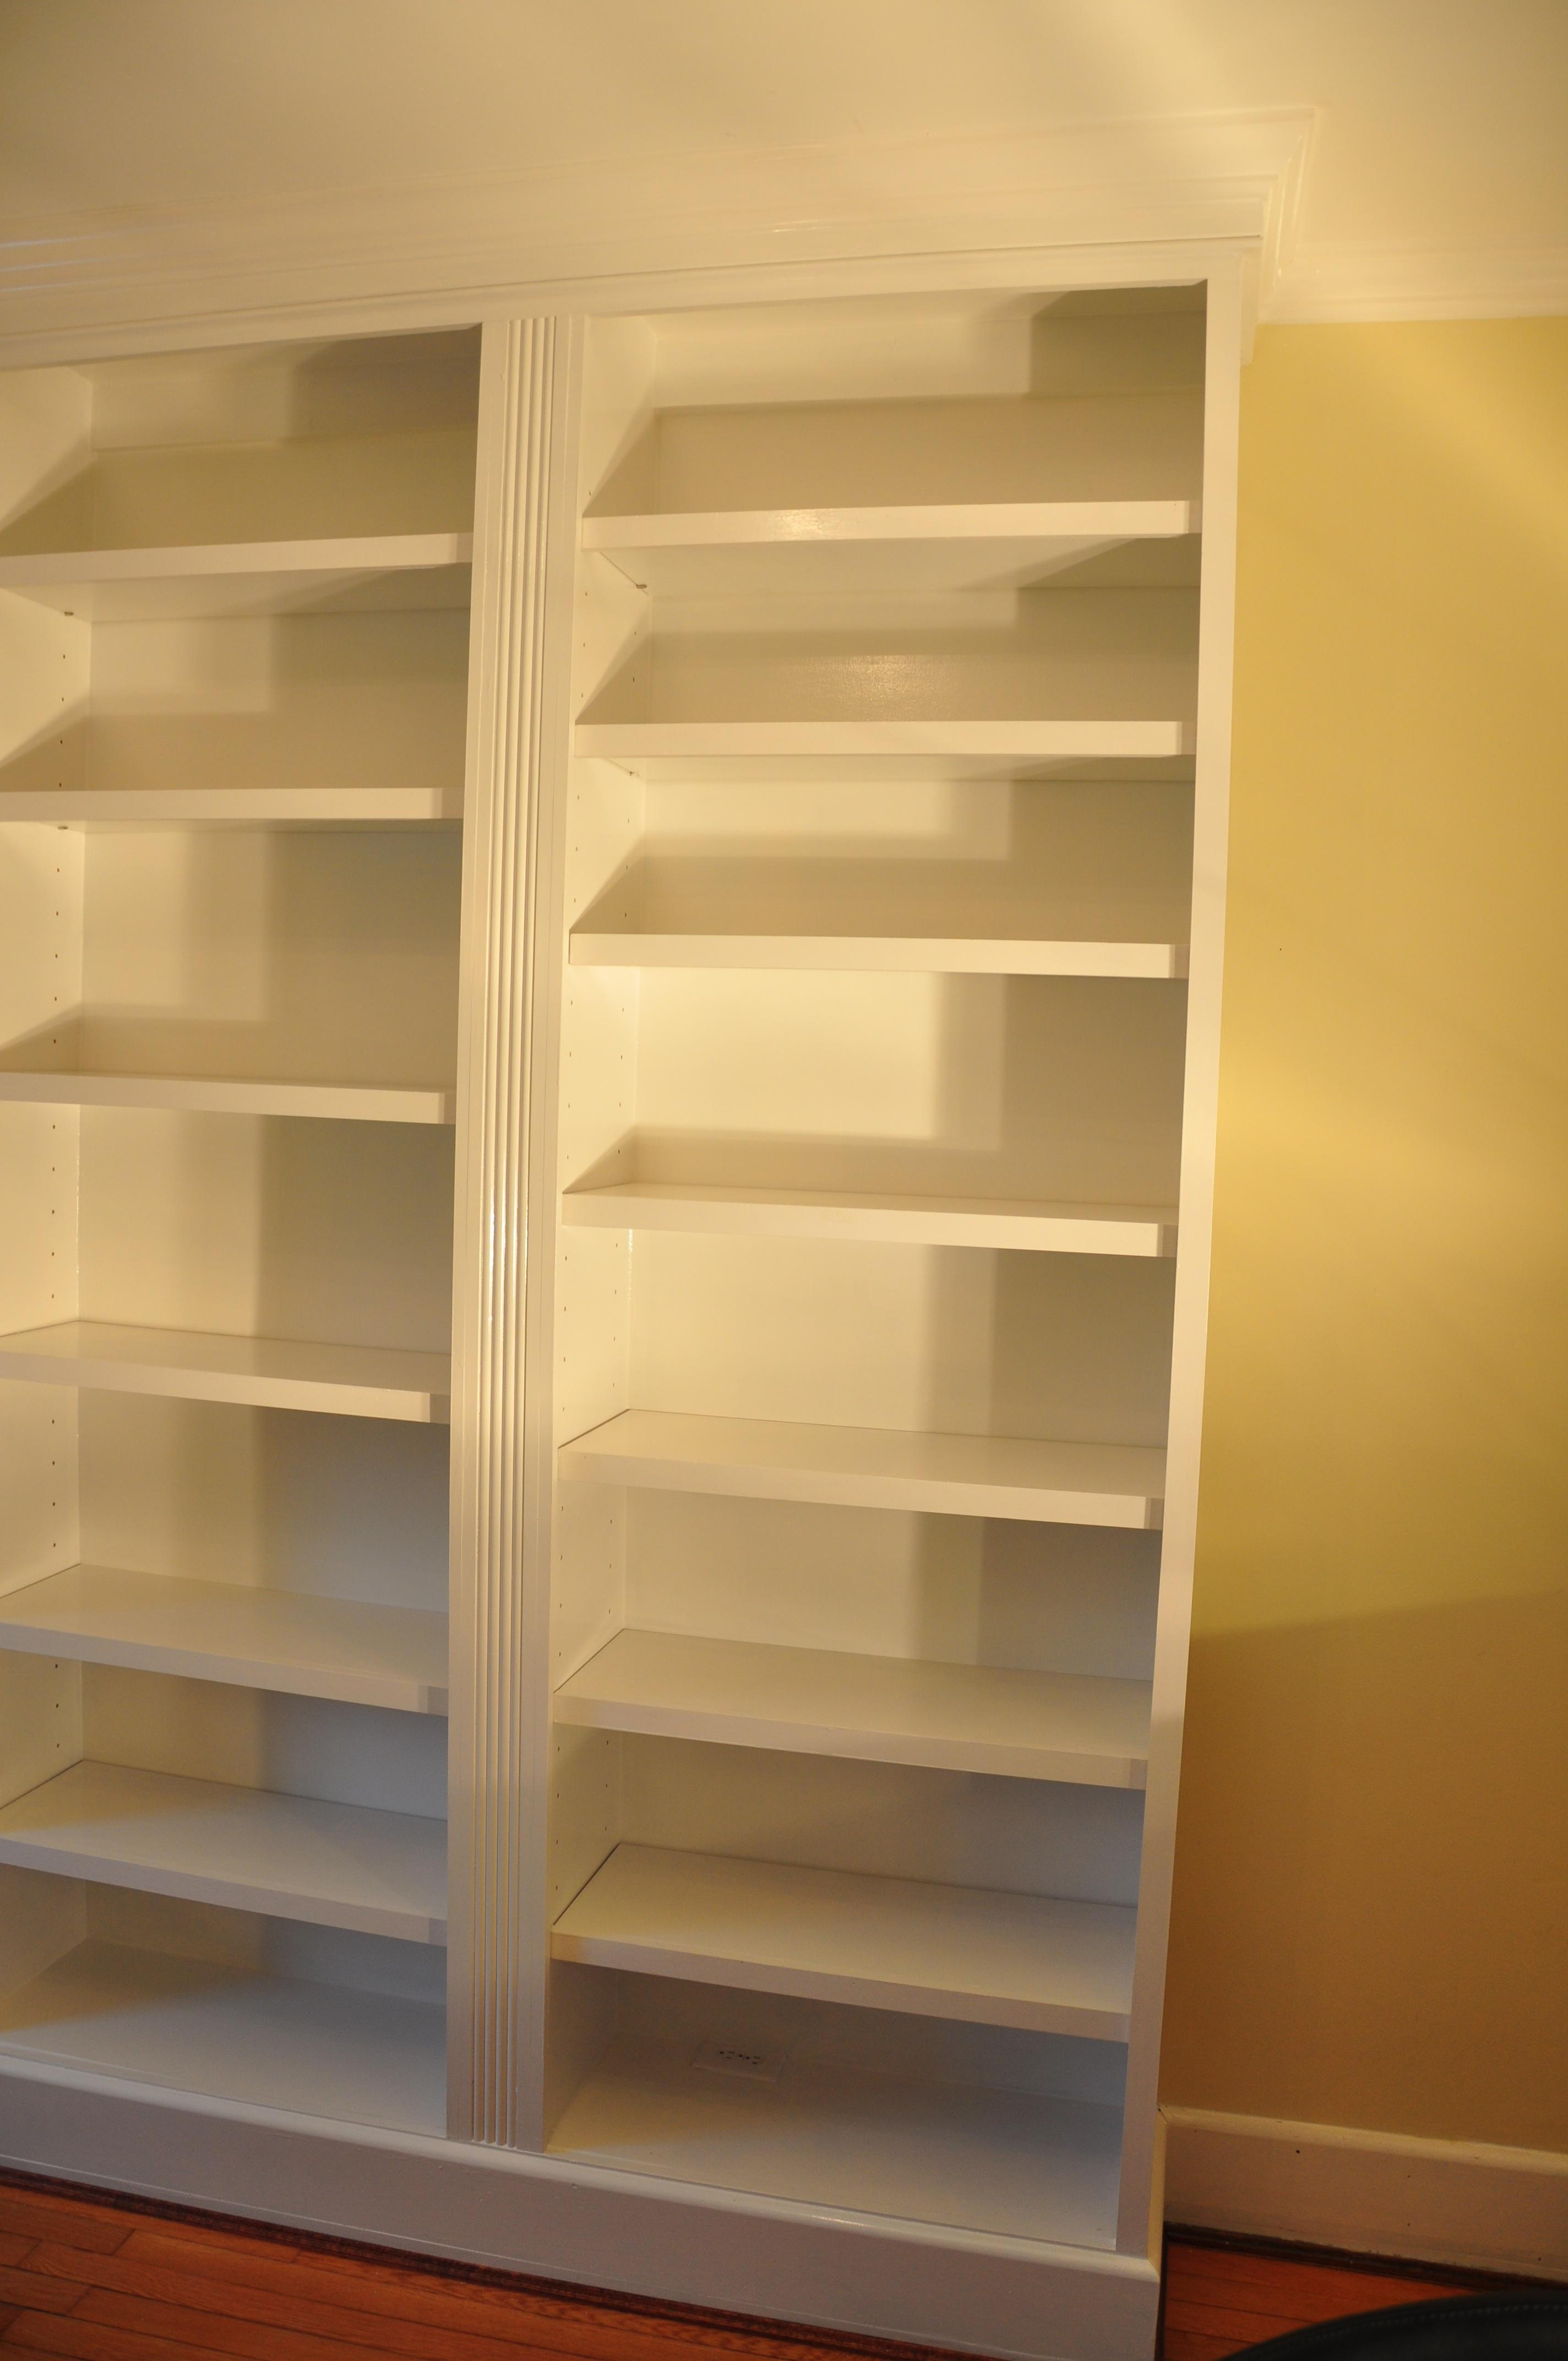Rak: (0, 249, 1244, 2291)
